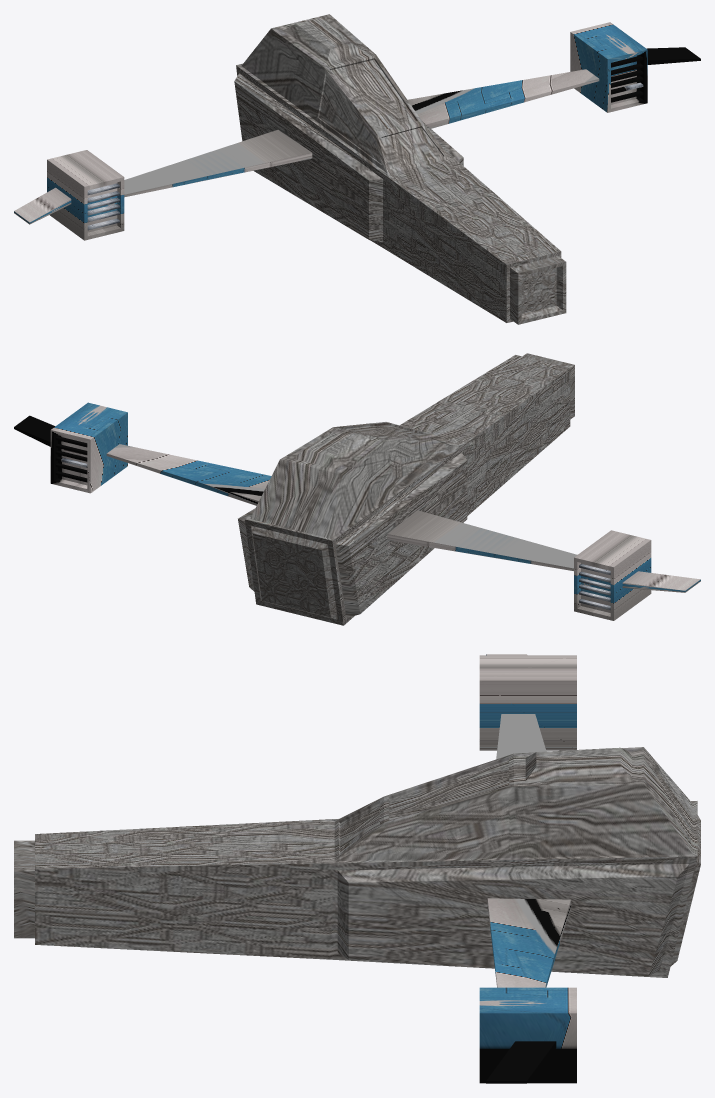
File: worker ship 2.fbx
3 renders of one model, top to bottom at view 1: azimuth 30°, elevation 25°; view 2: azimuth 150°, elevation 25°; view 3: azimuth 270°, elevation 25°, orthographic. The views are drawn at different scales.
Visible parts, largest first — view 1: Box001, Box017, Box003; view 2: Box001, Box017, Box003; view 3: Box001, Box003, Box017.
Boxes of the visible parts, x1=… form: Box001: x1=234, y1=14, x2=566, y2=324; Box017: x1=14, y1=130, x2=312, y2=240; Box003: x1=407, y1=22, x2=700, y2=128; Box001: x1=238, y1=353, x2=574, y2=625; Box017: x1=387, y1=510, x2=700, y2=620; Box003: x1=14, y1=402, x2=271, y2=505; Box001: x1=14, y1=747, x2=700, y2=977; Box003: x1=479, y1=898, x2=576, y2=1083; Box017: x1=479, y1=654, x2=576, y2=759.
Bounding box in the file's own units: 201 × 42.58 × 137.
2 materials, 2 textured.
